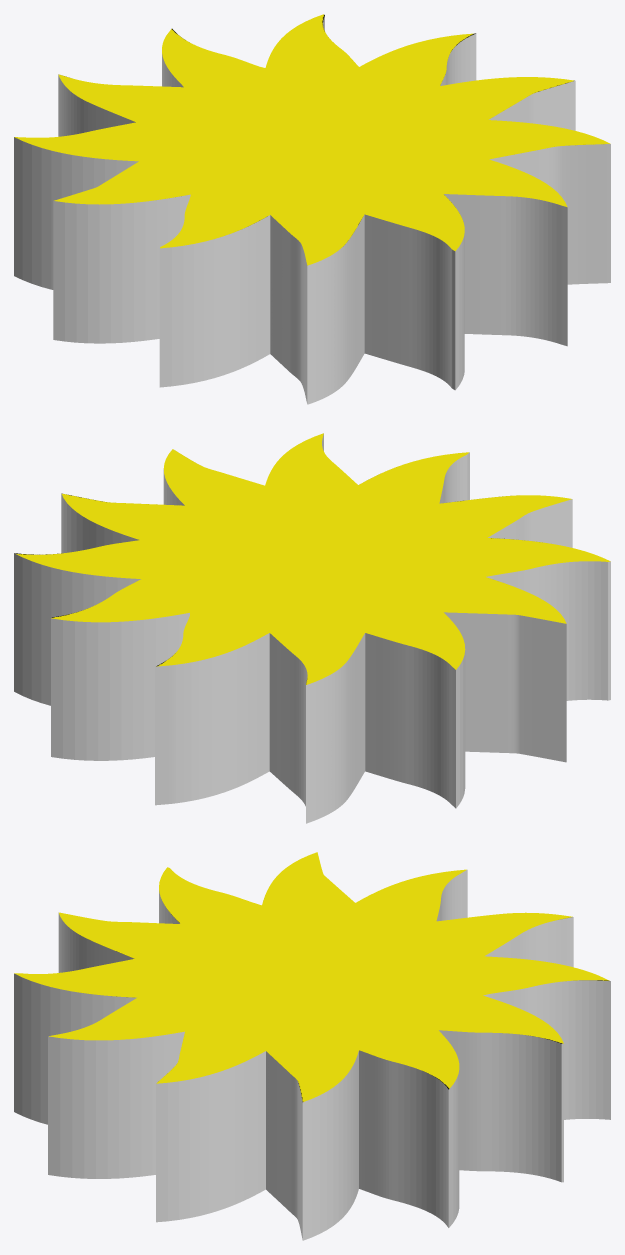
Rendered from zon.dae.
3 renders of one model, top to bottom at view 1: azimuth 30°, elevation 25°; view 2: azimuth 150°, elevation 25°; view 3: azimuth 270°, elevation 25°, orthographic.
Visible parts, largest first — view 1: Curve; view 2: Curve; view 3: Curve.
Boxes of the visible parts, x1,y1,x2,y2 form: Curve: (14,14,610,404); Curve: (14,433,610,823); Curve: (14,852,610,1240).
Bounding box in the file's own units: 0.1635 × 0.1649 × 0.0422.
1 material, 1 textured.
